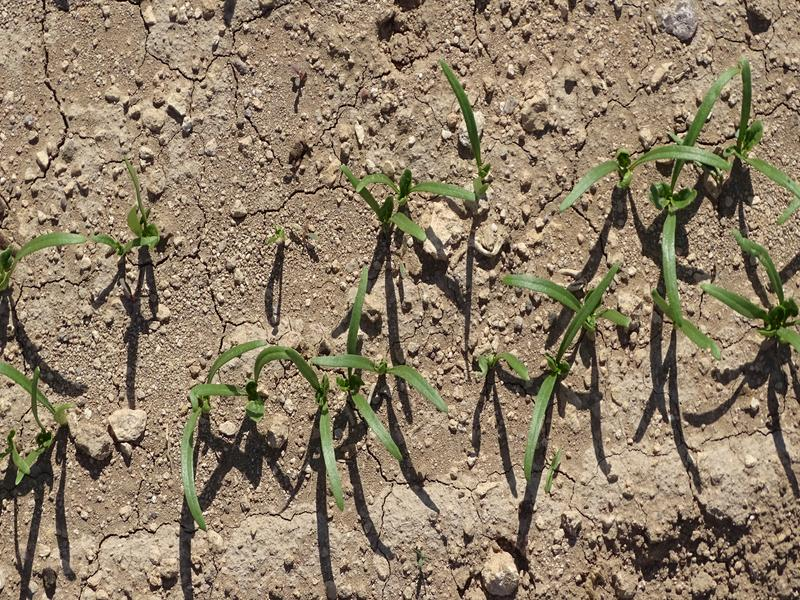Espinaca: (506, 218, 797, 480), (178, 309, 448, 519), (561, 73, 800, 205), (334, 65, 490, 235), (1, 209, 86, 314), (1, 361, 66, 492), (95, 175, 157, 260)
